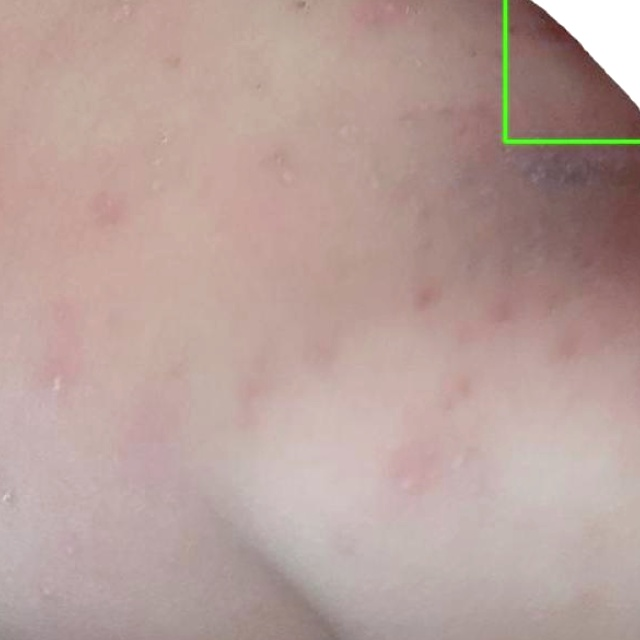Contact Dermatitis: (505, 0, 639, 141)
